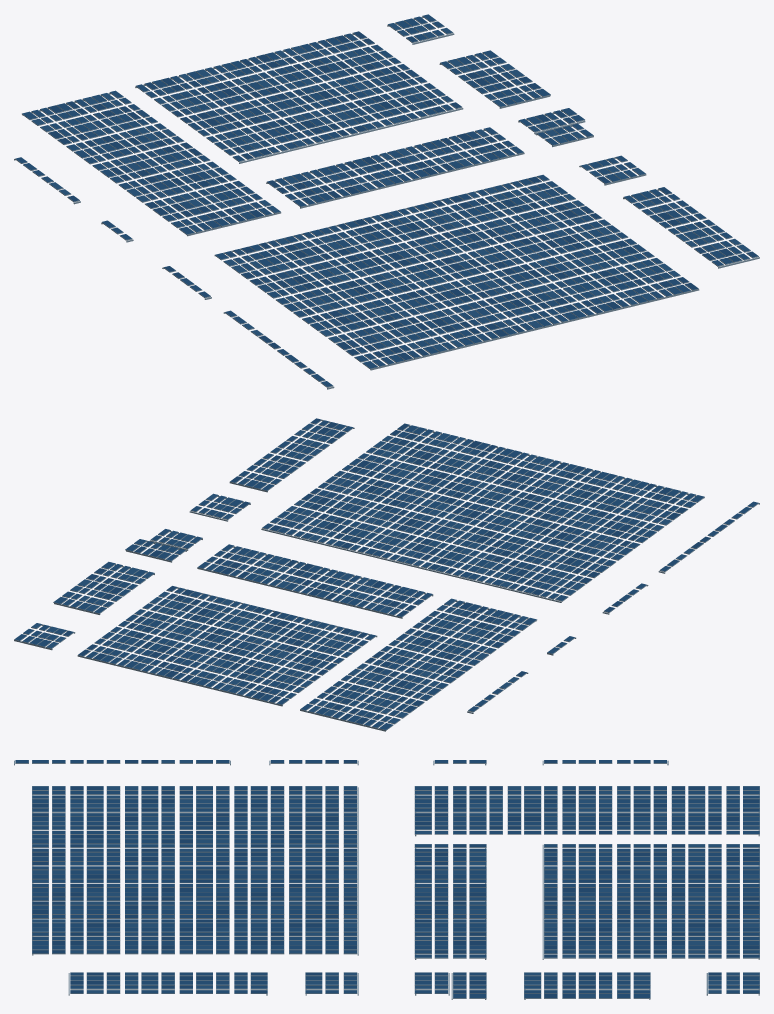
Rendered from SM_MPRH_SolarBank_01_0.fbx.
3 renders of one model, top to bottom at view 1: azimuth 30°, elevation 25°; view 2: azimuth 150°, elevation 25°; view 3: azimuth 270°, elevation 25°, orthographic. The views are drawn at different scales.
Parts seen in each view (by area): view 1: SM_MPRH_SolarBank_01_0; view 2: SM_MPRH_SolarBank_01_0; view 3: SM_MPRH_SolarBank_01_0.
Boxes of the visible parts, left/top/right/bottom form: SM_MPRH_SolarBank_01_0: left=14, top=14, right=759, bottom=389; SM_MPRH_SolarBank_01_0: left=14, top=418, right=759, bottom=731; SM_MPRH_SolarBank_01_0: left=14, top=760, right=759, bottom=999.
Bounding box in the file's own units: 6032 × 7980 × 24.6.
